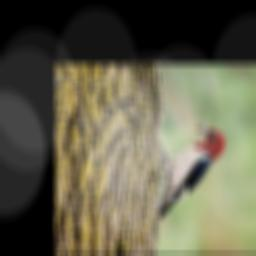Woodpecker: (159, 123, 226, 218)
